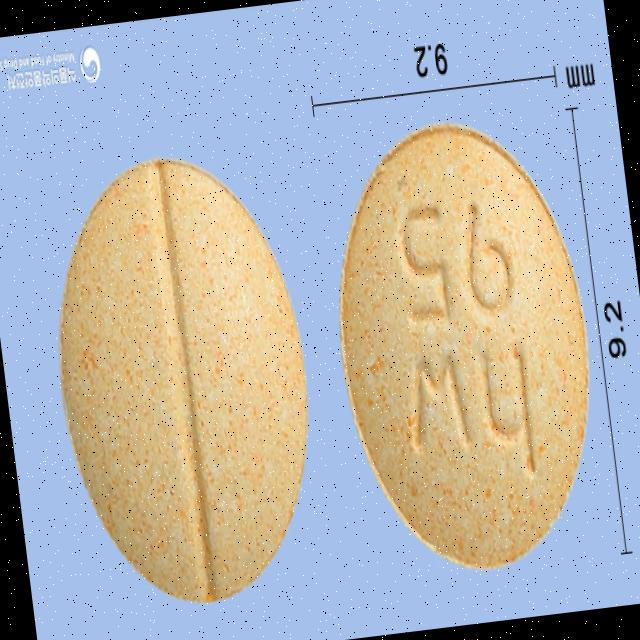Doxy: (312, 107, 616, 585), (35, 147, 332, 618)
